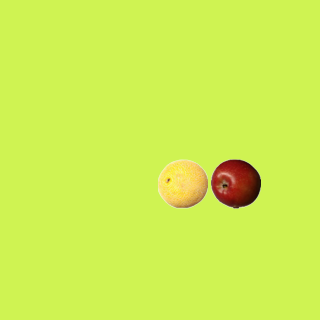Apple Braeburn: (210, 158, 260, 208)
Cantaloupe 1: (157, 158, 207, 208)
